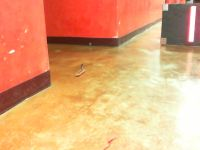switch: (188, 5, 196, 43)
